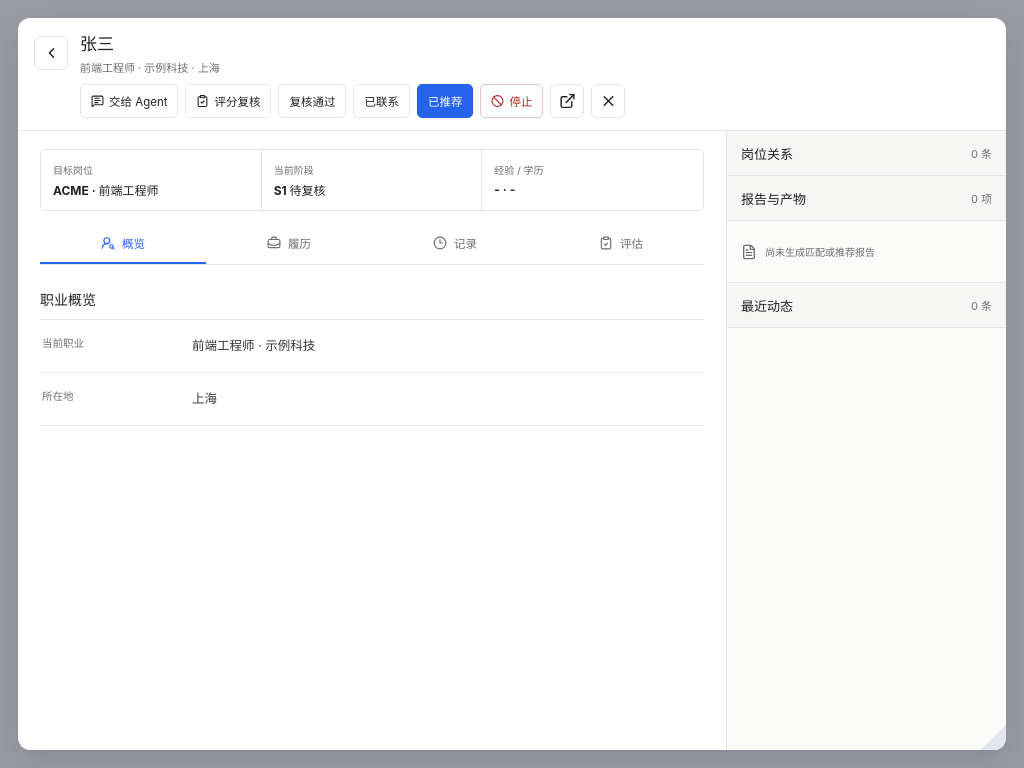
Test case: 生命周期事件记录表单（面试/Offer/入职） › 展开表单并列出 6 个契约事件类型，默认"面试安排"
The width and height of the screenshot is (1024, 768).
Step 1. Click the button "记录" → x=455, y=244, box [372,224,538,264]
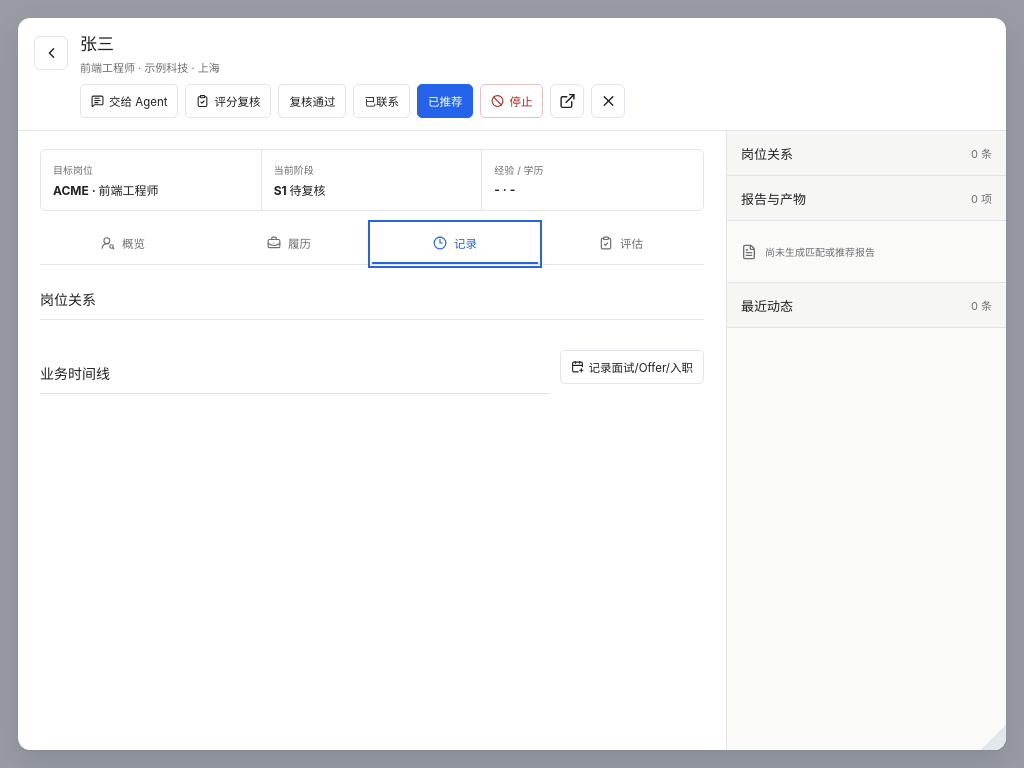
Step 2. Click the button "记录面试/Offer/入职" → x=632, y=367, box [560,350,704,384]
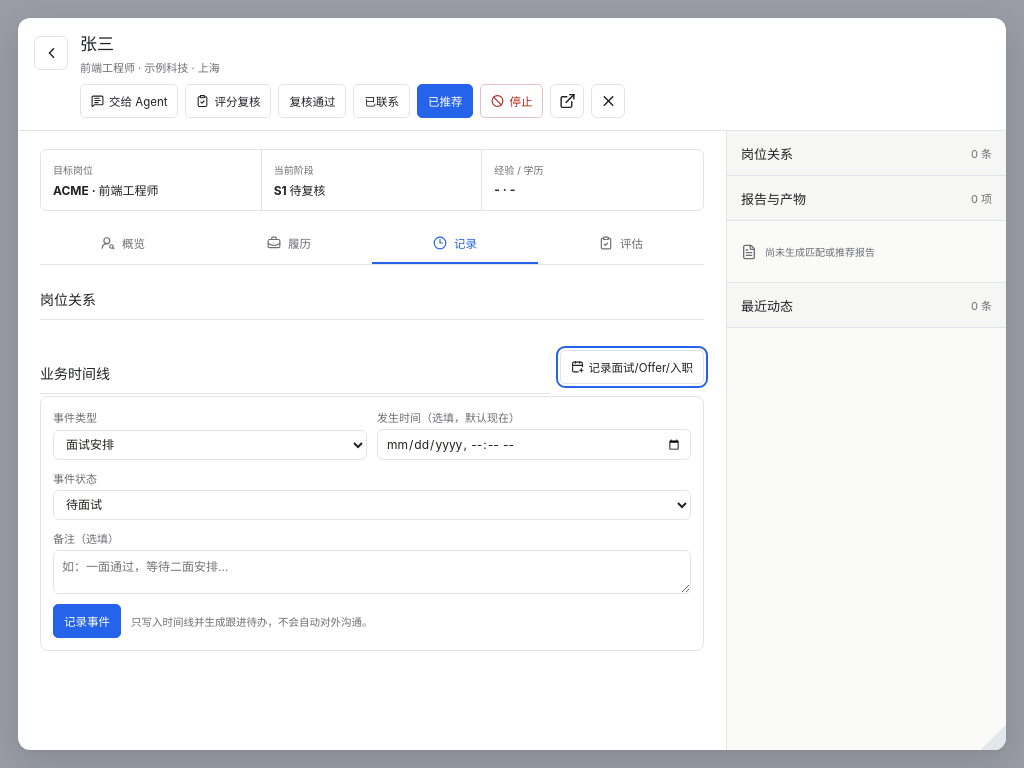
Expected: the dropdown labelled "事件类型" shows "面试安排", [53,430,367,460]
Expected: the text "只写入时间线并生成跟进待办，不会自动对外沟通。" is shown, [131,614,372,628]
